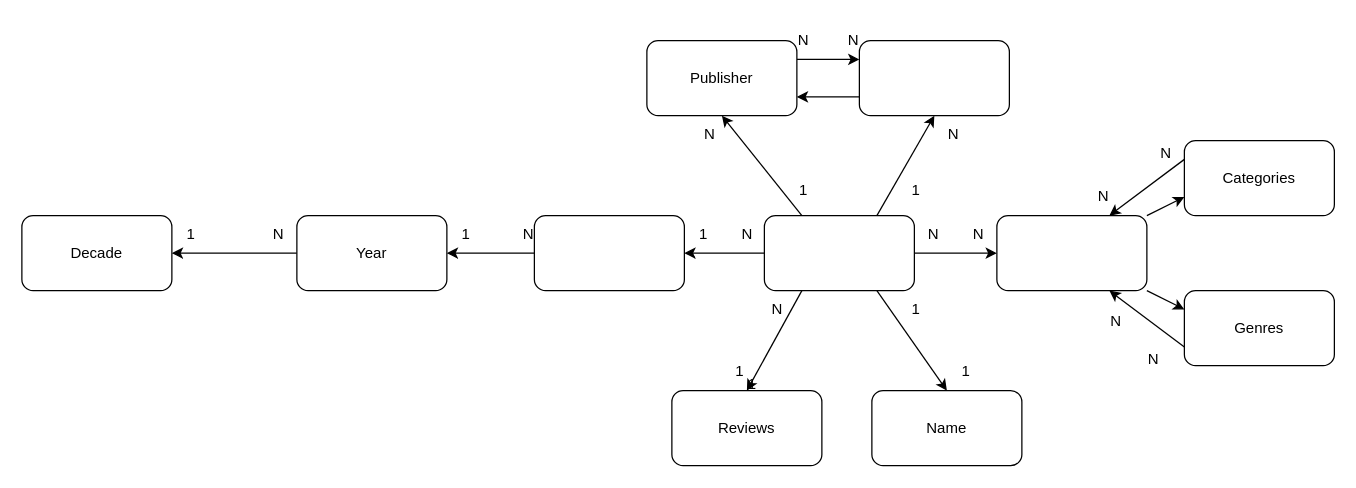
The diagram is 1356 pixels wide and 488 high, and some of its shapes have lost their labels. Each missing label, with the centre of its shape:
"Dev" belongs at (x=933, y=77).
"JOGO (APP ID)" belongs at (x=838, y=252).
"Realese Date" belongs at (x=608, y=252).
"TAG´s" belongs at (x=1071, y=252).
